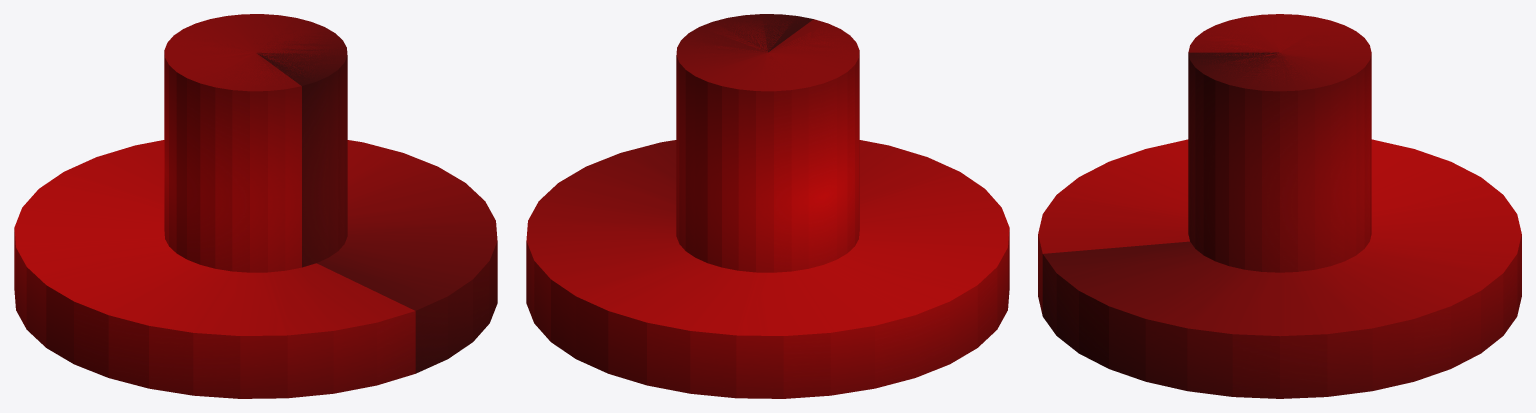
File: paddleOne.obj
3 renders of one model, left to right at view 1: azimuth 30°, elevation 25°; view 2: azimuth 150°, elevation 25°; view 3: azimuth 270°, elevation 25°, orthographic.
Parts seen in each view (by area): view 1: Cylinder; view 2: Cylinder; view 3: Cylinder.
Part boxes in pixels (left/top/right/bottom): Cylinder: left=14, top=14, right=497, bottom=398; Cylinder: left=526, top=14, right=1009, bottom=398; Cylinder: left=1038, top=14, right=1521, bottom=398.
Bounding box in the file's own units: 2.38 × 1.33 × 2.38.
Materials: 1 (1 with a texture image).
